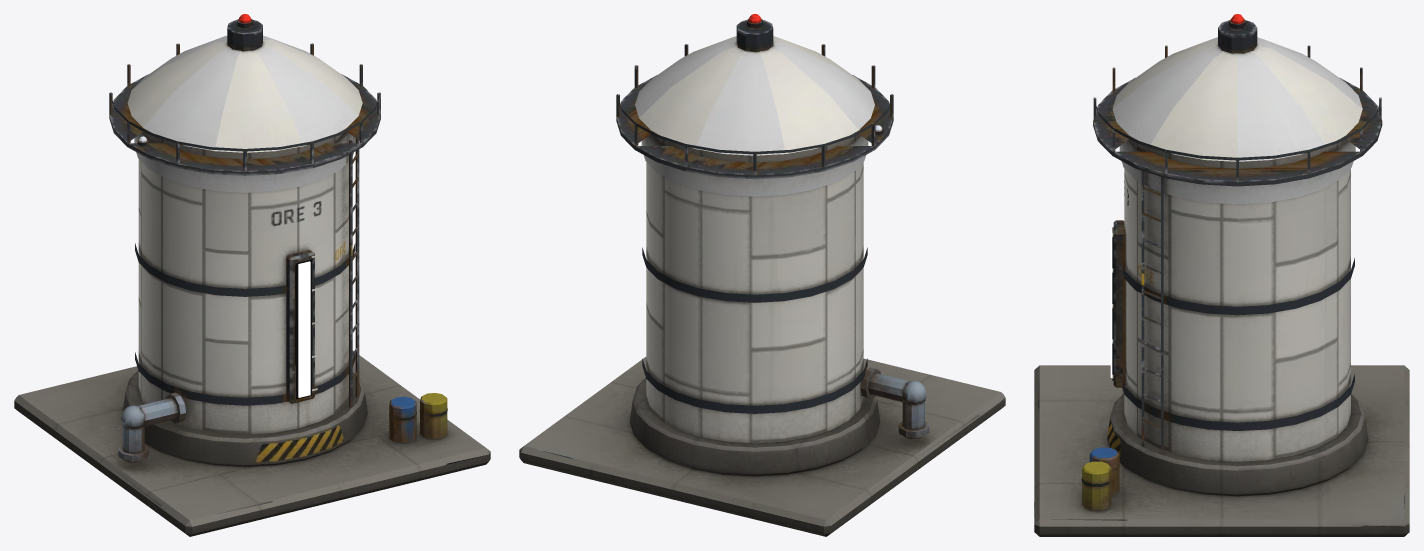
File: silo.allies.glb
3 views of the same model, side by side, from view 1: azimuth 30°, elevation 25°; view 2: azimuth 150°, elevation 25°; view 3: azimuth 270°, elevation 25° (orthographic). The views are drawn at different scales.
Visible parts, largest first — view 1: root_mesh, gauge_mesh; view 2: root_mesh; view 3: root_mesh.
Part boxes in pixels (x1,y1,x2,y2): root_mesh: [14, 14, 490, 536]; gauge_mesh: [298, 261, 310, 397]; root_mesh: [519, 14, 1005, 536]; root_mesh: [1034, 14, 1409, 536].
Bounding box in the file's own units: 0.96 × 1.26 × 0.96.
2 materials, 1 textured.
